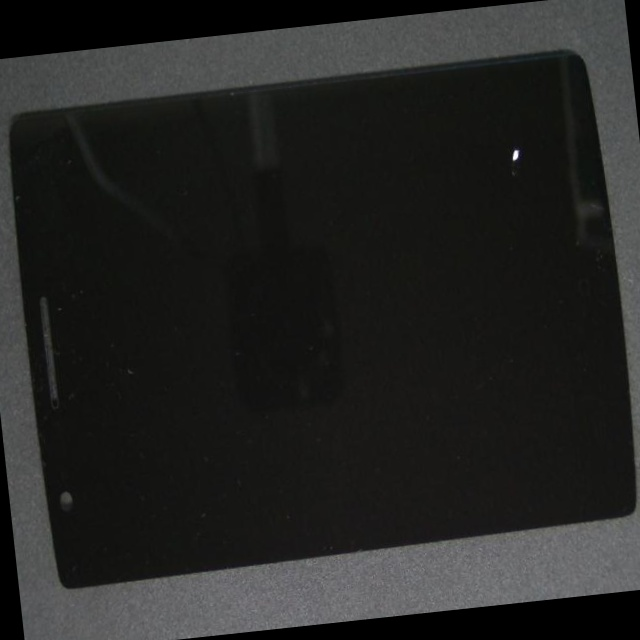stain: (259, 78, 640, 246)
